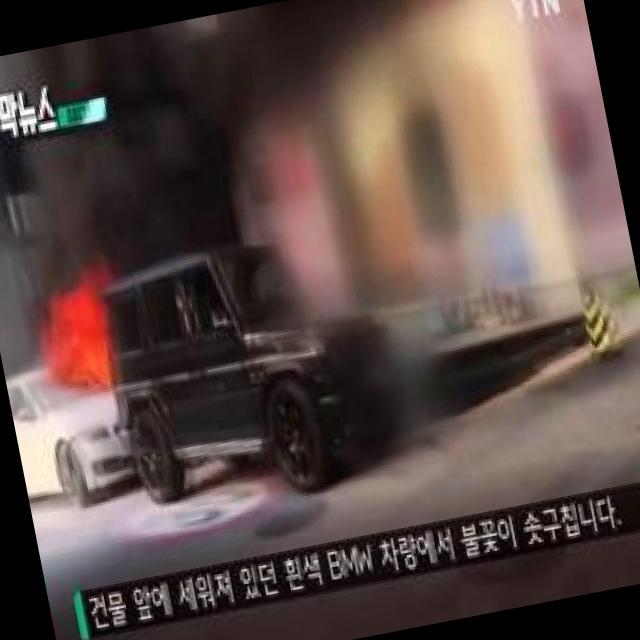Fire: (58, 312, 118, 390)
